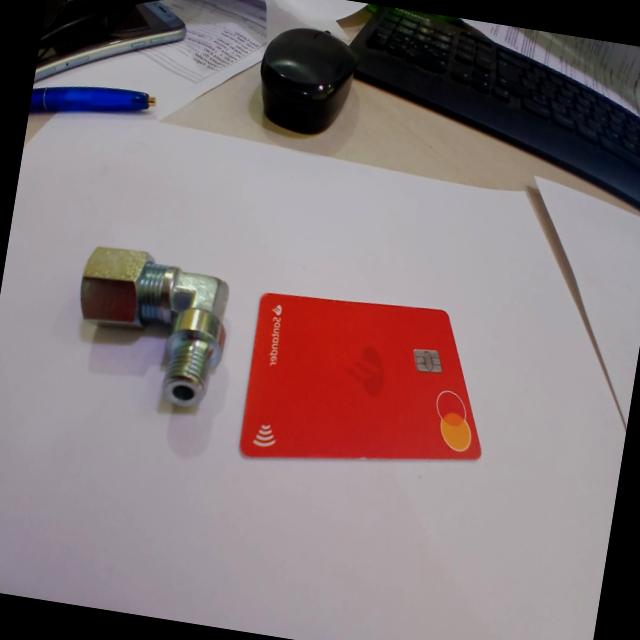cartao: (236, 279, 502, 494)
rosca_externa: (64, 243, 234, 410)
